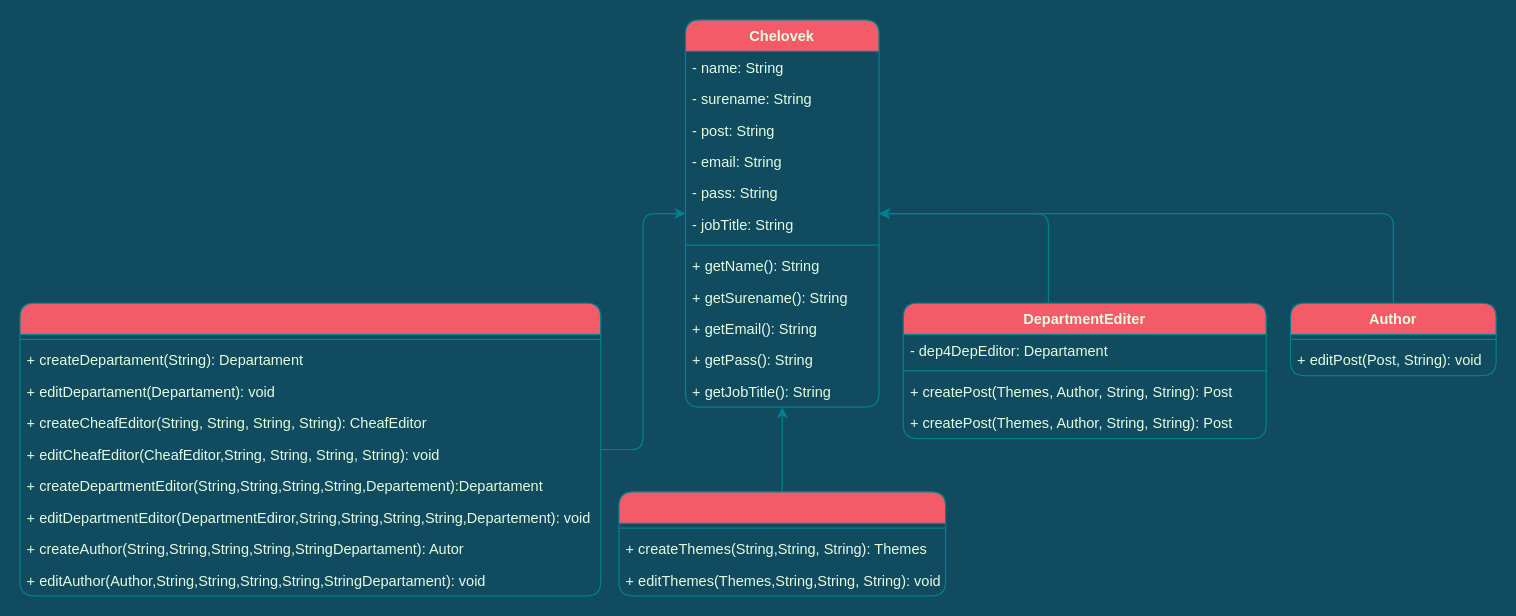
Image size: 1516x616. Some labels were removed from this diagram. Each missing label, with the box of its shape:
Admin: (19, 302, 601, 596)
CheafEditer: (618, 491, 946, 596)
